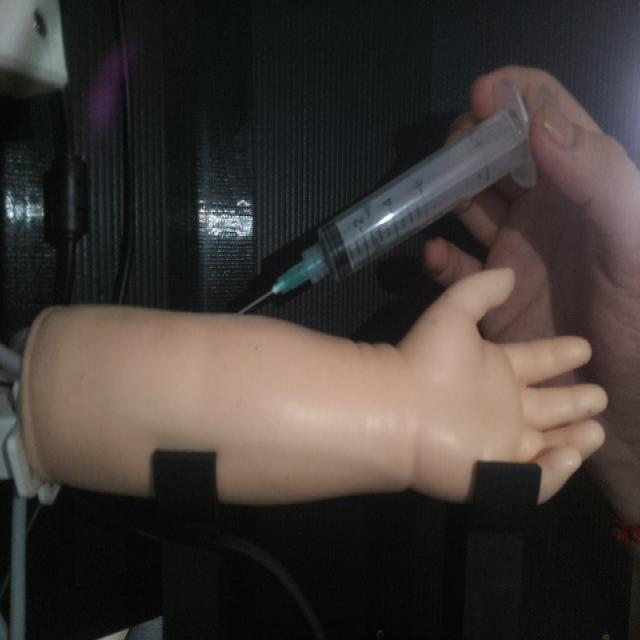Outside: (233, 77, 539, 316)
